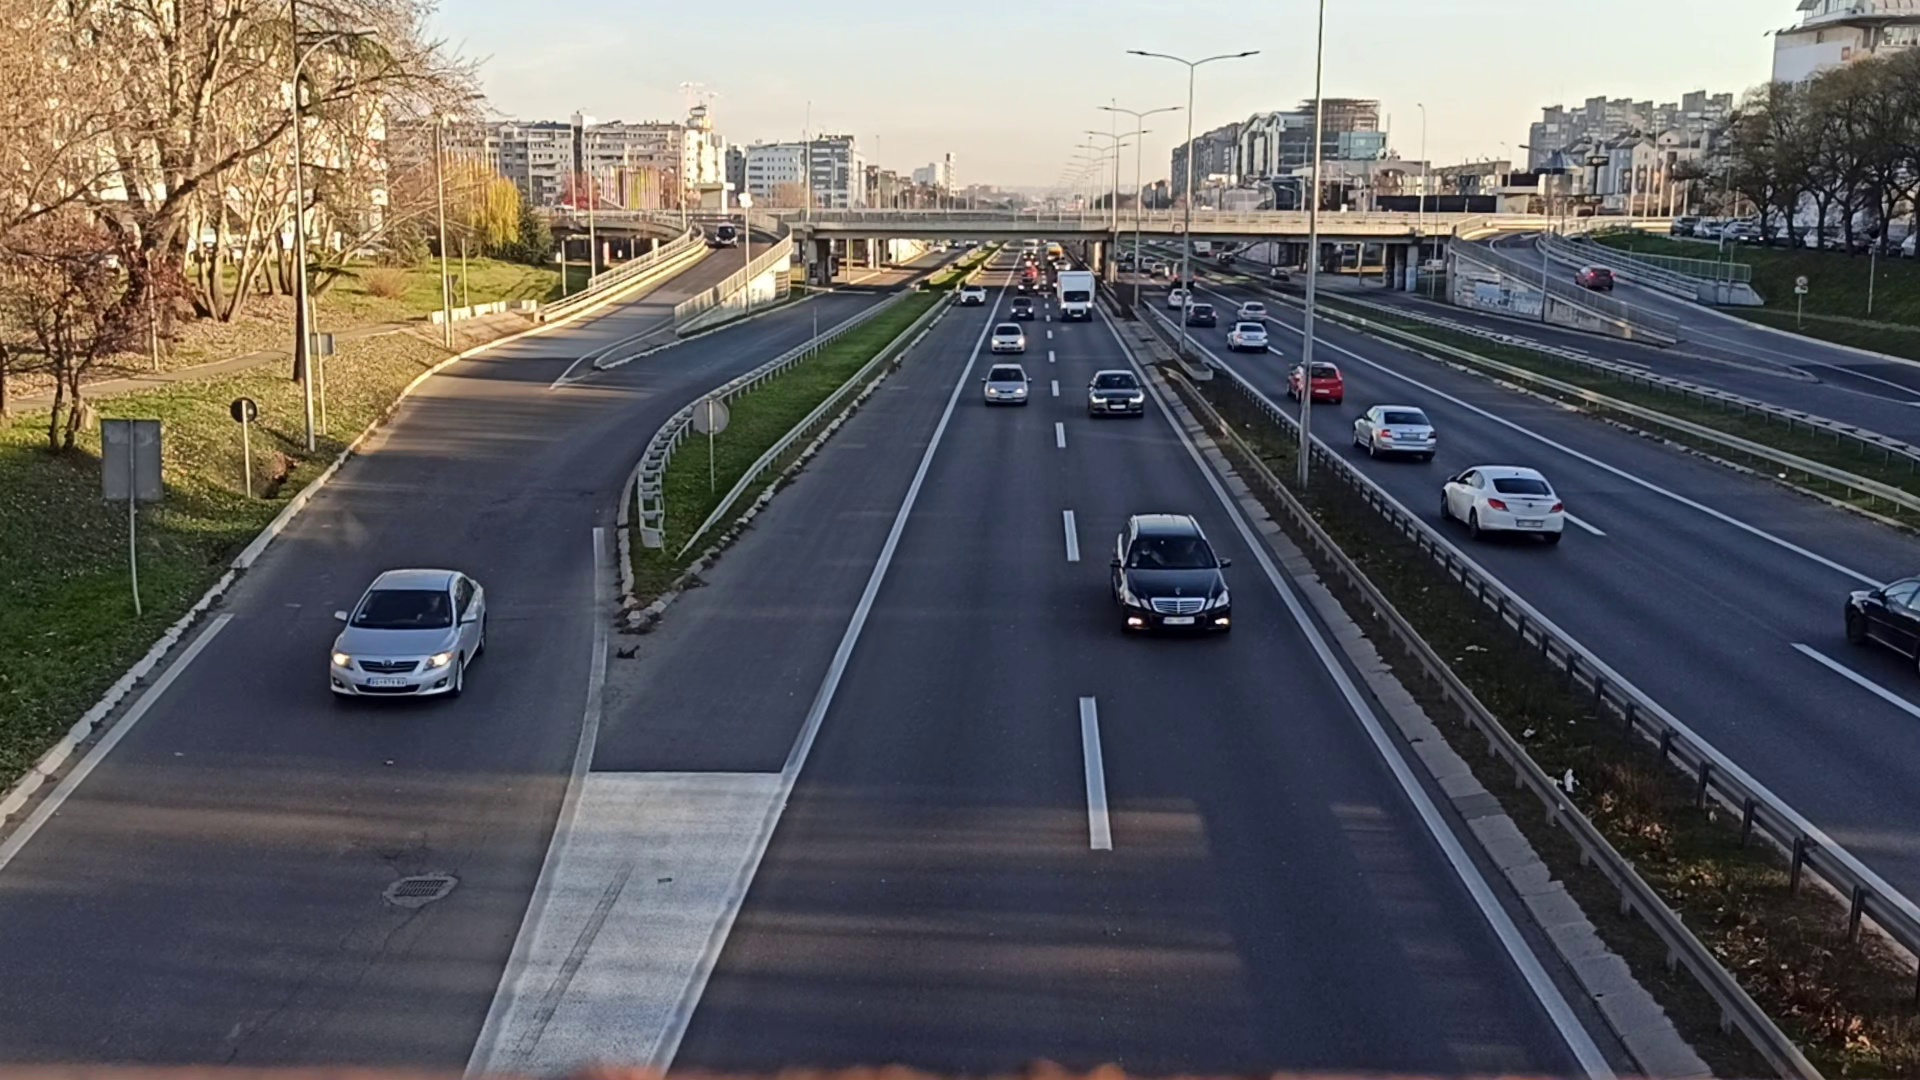car: (328, 566, 489, 709), (1110, 510, 1236, 644), (1439, 462, 1565, 542), (1352, 401, 1436, 458), (1087, 368, 1145, 415), (1288, 361, 1342, 402), (985, 363, 1030, 407), (1228, 323, 1269, 349), (993, 324, 1023, 352), (1010, 294, 1033, 316)
van: (1058, 269, 1095, 320)
